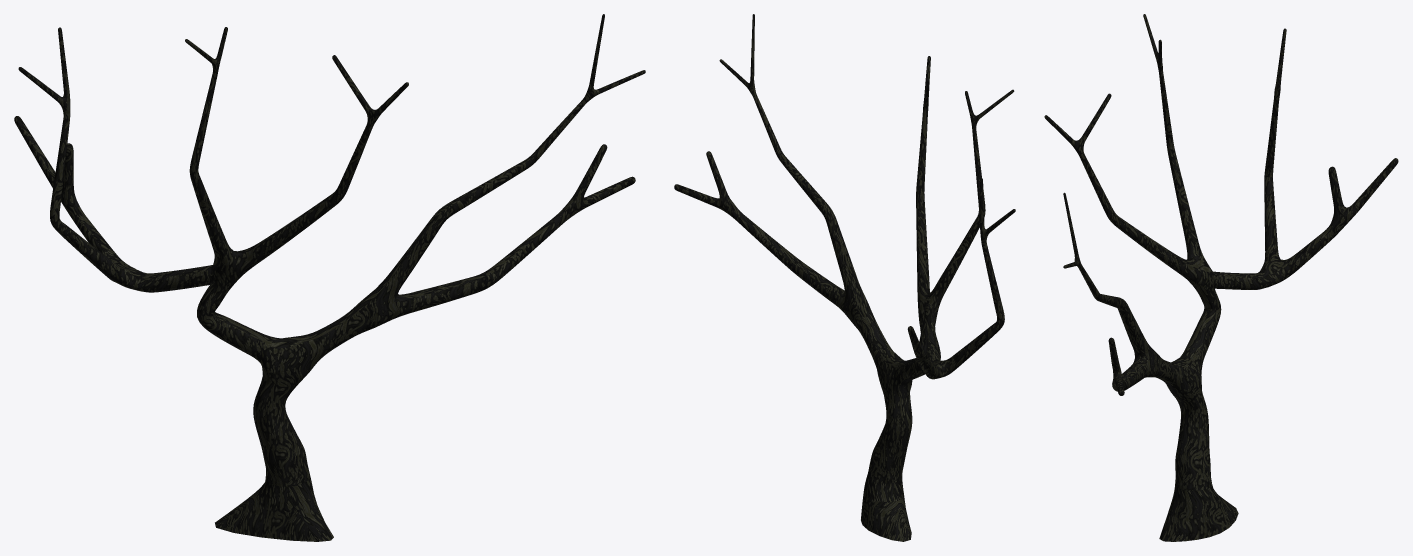
The model's file is Withered Tree 5.fbx.
The picture shows the model from 3 angles, left to right: view 1: azimuth 30°, elevation 25°; view 2: azimuth 150°, elevation 25°; view 3: azimuth 270°, elevation 25°; orthographic projection. The views are drawn at different scales.
Parts seen in each view (by area): view 1: Cube.018; view 2: Cube.018; view 3: Cube.018.
Boxes of the visible parts, x1,y1,x2,y2 form: Cube.018: (14, 14, 645, 541); Cube.018: (674, 14, 1015, 541); Cube.018: (1044, 14, 1398, 541).
Bounding box in the file's own units: 819 × 821 × 570.
1 material, 1 textured.
